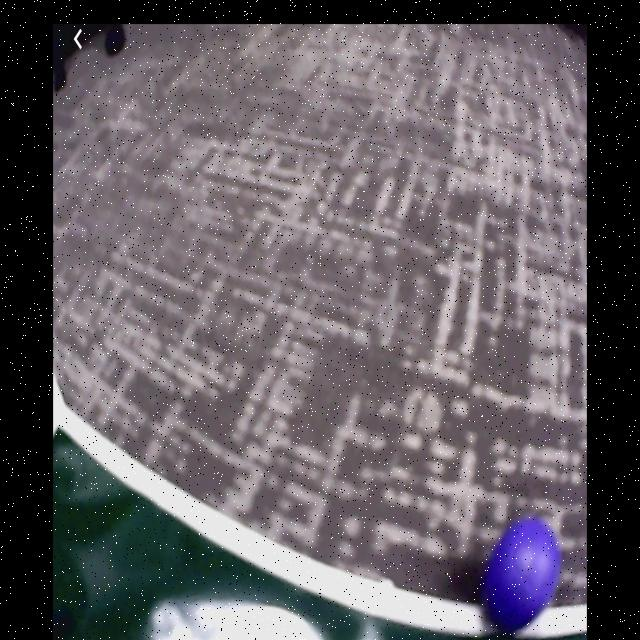ball: (483, 517, 560, 637)
